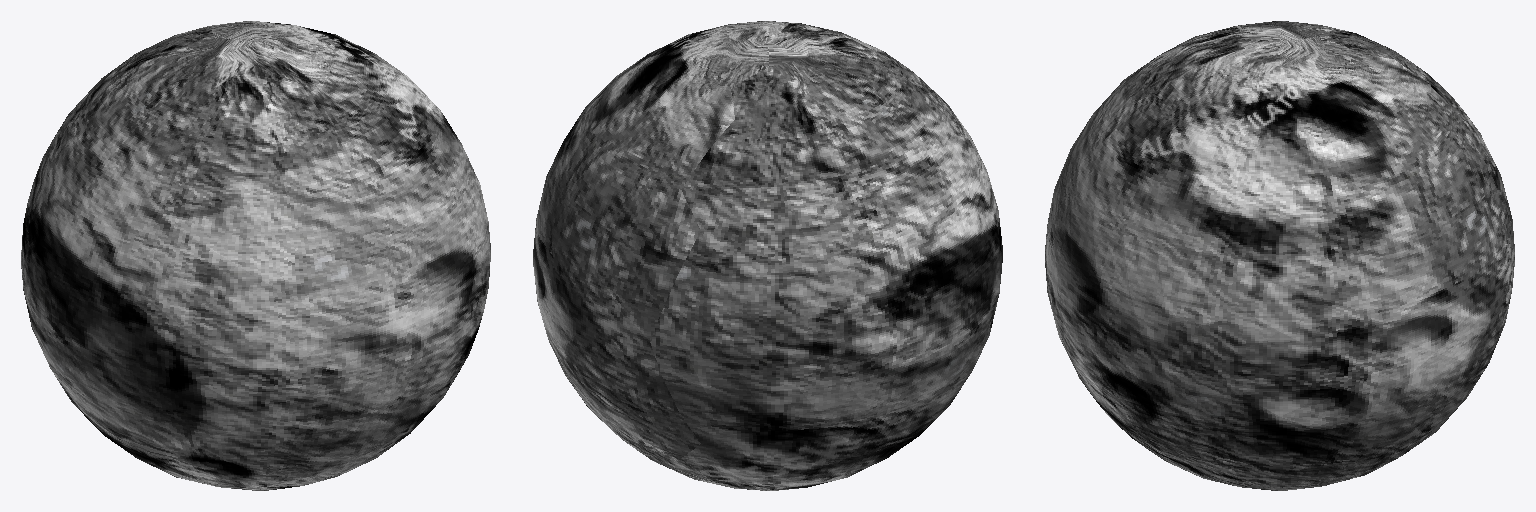
3 views of the same model, side by side, from view 1: azimuth 30°, elevation 25°; view 2: azimuth 150°, elevation 25°; view 3: azimuth 270°, elevation 25° (orthographic).
Parts seen in each view (by area): view 1: Sphere:pPlatonic1; view 2: Sphere:pPlatonic1; view 3: Sphere:pPlatonic1.
Part boxes in pixels (x1,y1,x2,y2): Sphere:pPlatonic1: (21,21,490,490); Sphere:pPlatonic1: (533,21,1002,490); Sphere:pPlatonic1: (1045,21,1514,490).
Bounding box in the file's own units: 1.99 × 2 × 2.
Materials: 1 (1 with a texture image).